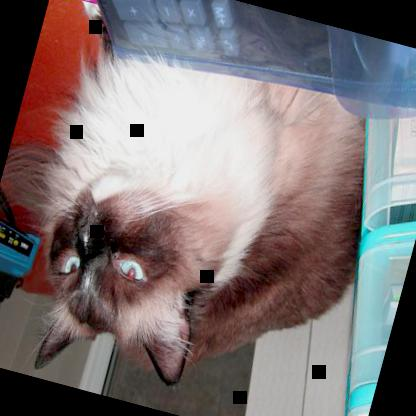cat: (2, 27, 398, 415)
